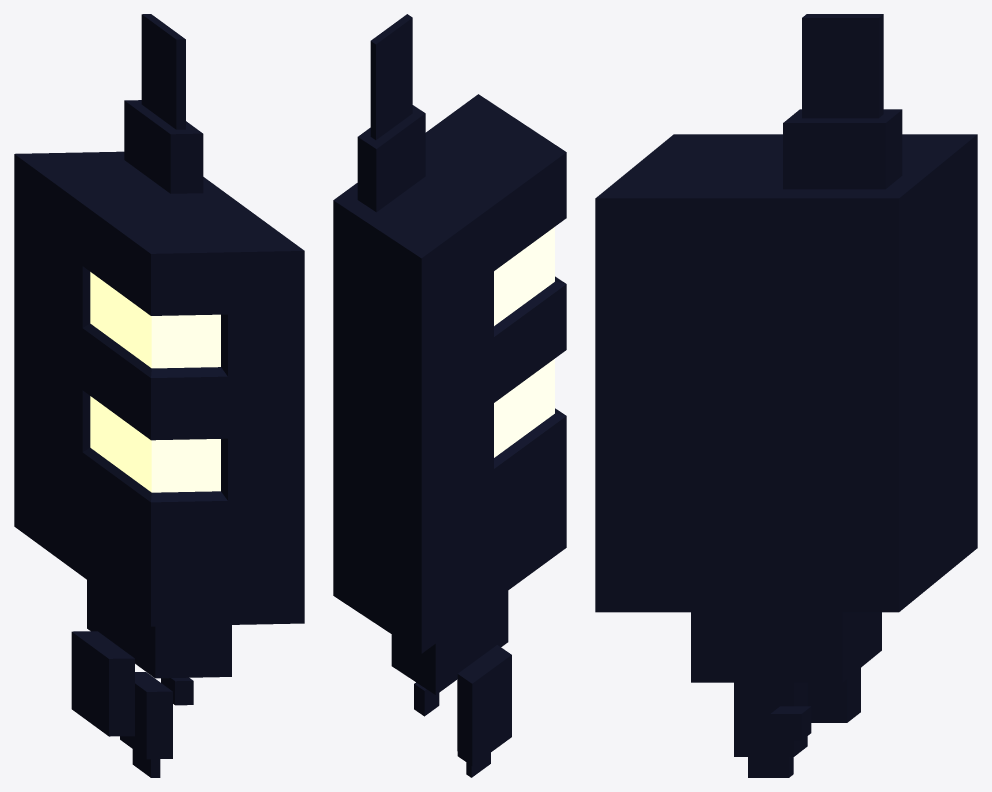
File: building3.fbx
3 views of the same model, side by side, from view 1: azimuth 30°, elevation 25°; view 2: azimuth 150°, elevation 25°; view 3: azimuth 270°, elevation 25° (orthographic). The views are drawn at different scales.
Parts seen in each view (by area): view 1: Body; view 2: Body; view 3: Body.
Boxes of the visible parts, x1=… form: Body: x1=14, y1=14, x2=304, y2=777; Body: x1=333, y1=14, x2=566, y2=777; Body: x1=595, y1=14, x2=977, y2=777.
Bounding box in the file's own units: 369 × 2107 × 927.
